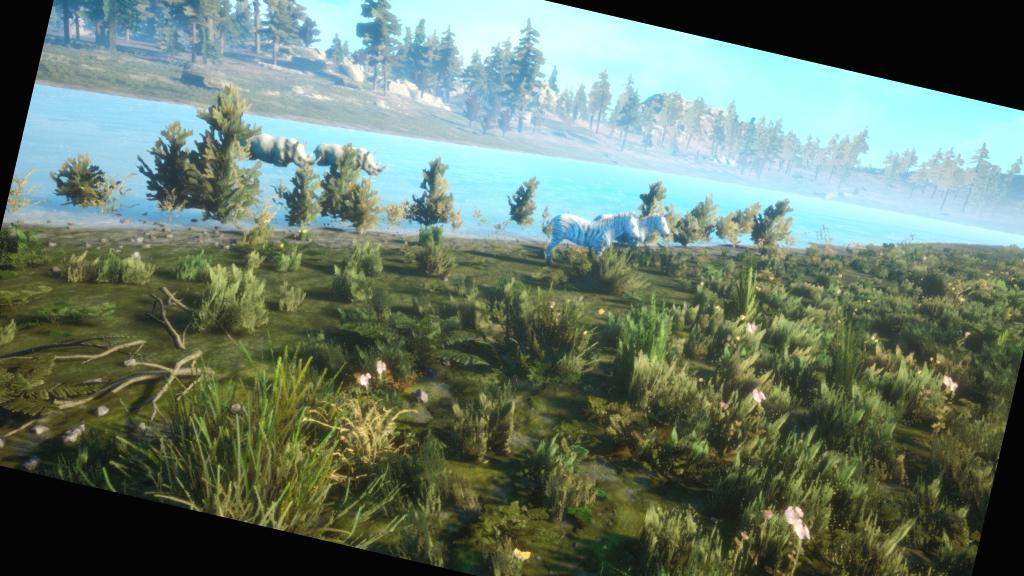rhinoceros: (227, 122, 324, 179), (304, 131, 395, 187)
zebra: (539, 192, 648, 284), (578, 190, 682, 270)
